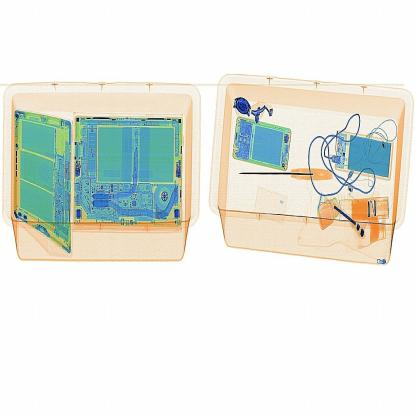wrench: (232, 155, 338, 190)
